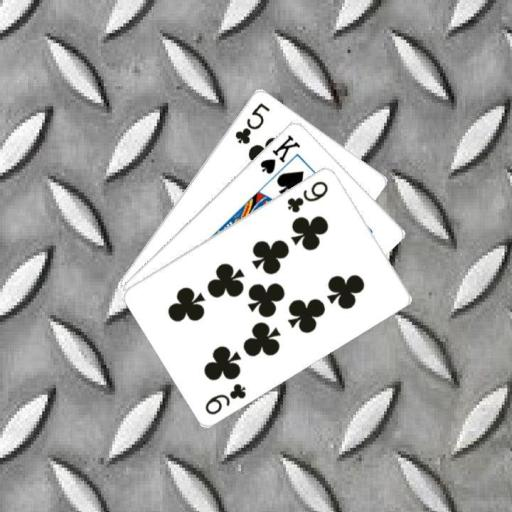5C: (231, 99, 272, 146)
9C: (284, 177, 330, 214), (201, 380, 248, 416)
KS: (257, 131, 302, 176)
